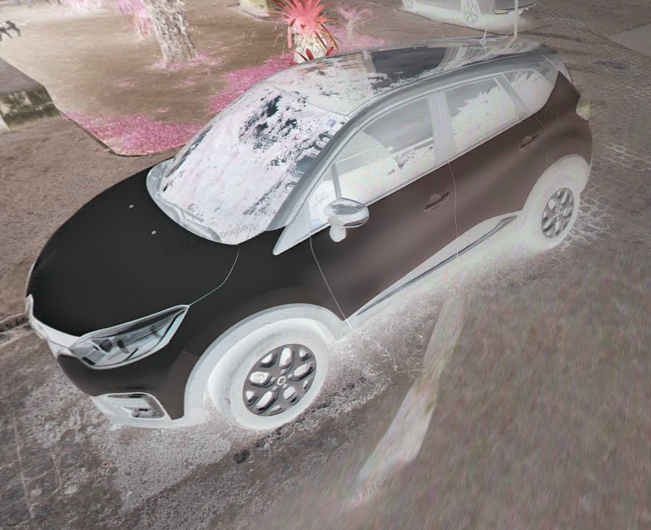car: (24, 1, 595, 430)
